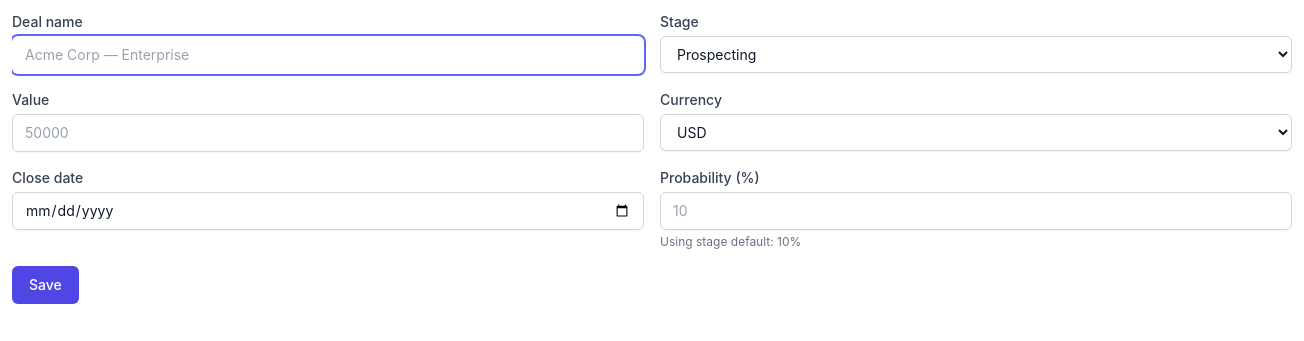
DealForm — probability validation › shows an error for a decimal probability input
The width and height of the screenshot is (1304, 341).
# Give the name field a value to satisfy required validation
Type "Test Deal" into the field with test id "deal-name-input".
click(328, 55); type("Test Deal")  # box [12,36,644,74]
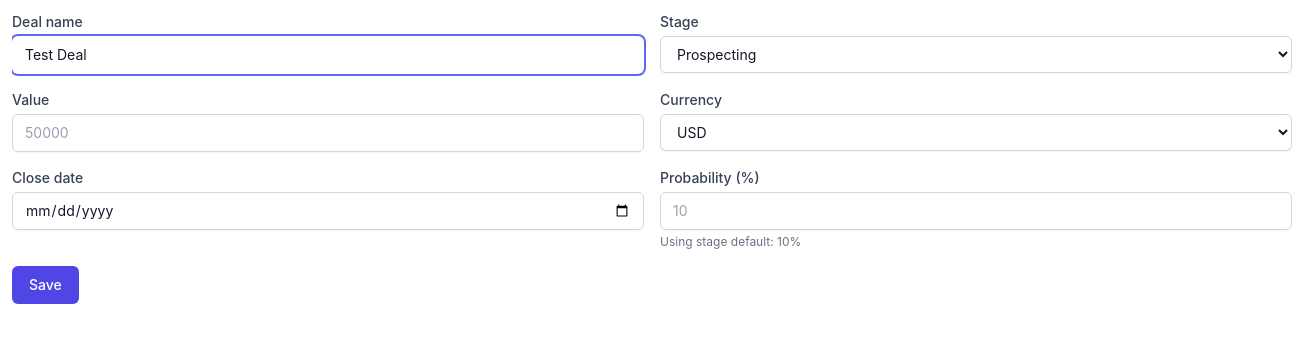
Type "50.5" into the number field with test id "deal-probability-input".
click(976, 211); type("50.5")  # box [660,192,1292,230]
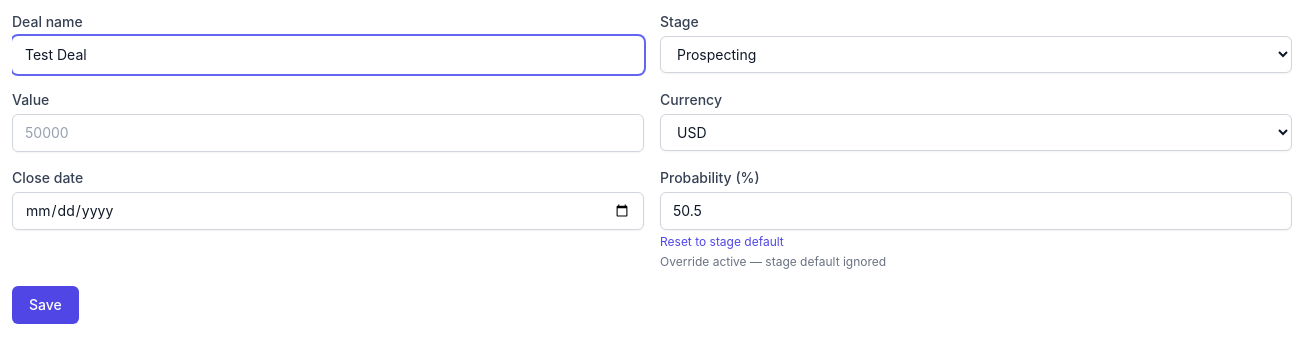
Submit the form with test id "deal-form"
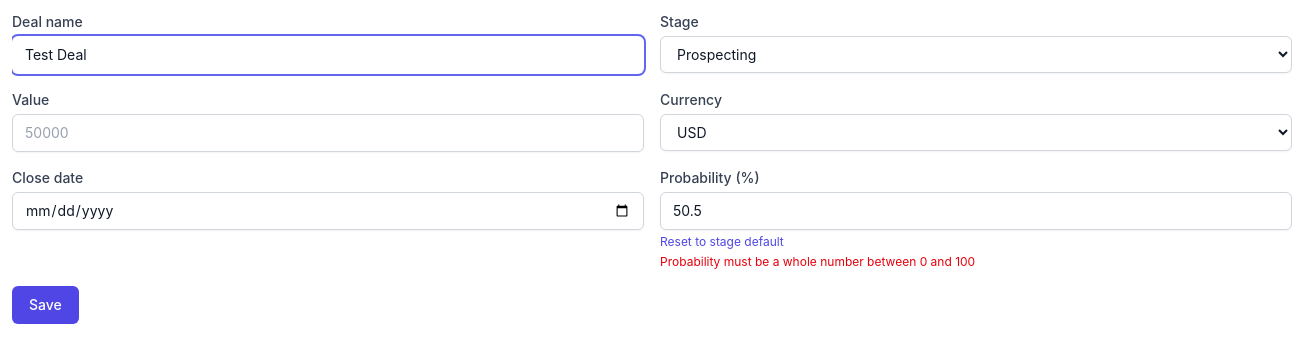
Expected: the message "Probability must be a whole number between 0 and 100" is shown, [660,254,975,269]
